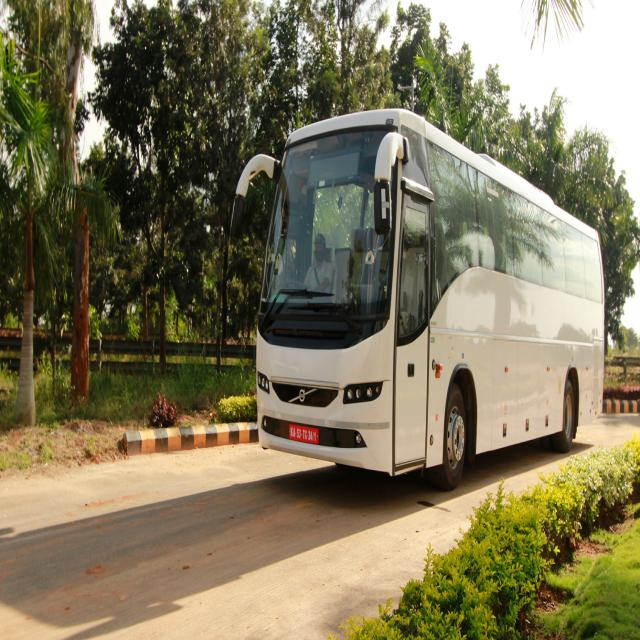bus: (232, 110, 604, 488)
